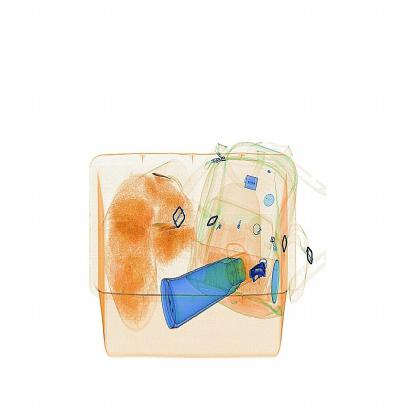knife: (245, 257, 274, 291)
